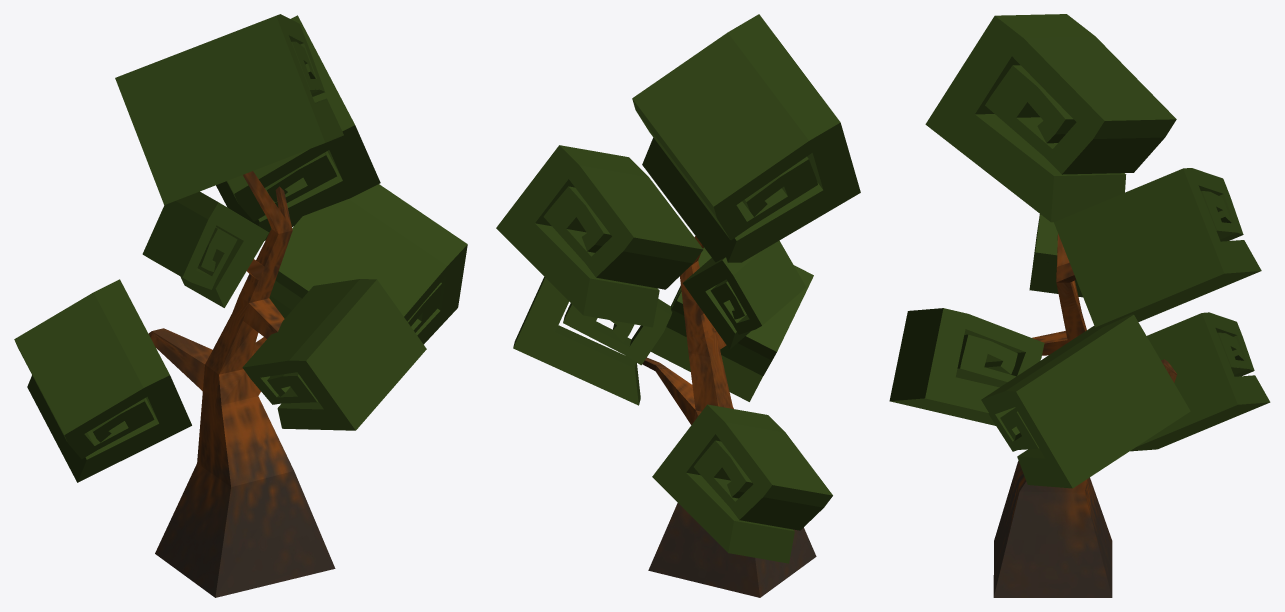
The model's file is tree_1.fbx.
3 views of the same model, side by side, from view 1: azimuth 30°, elevation 25°; view 2: azimuth 150°, elevation 25°; view 3: azimuth 270°, elevation 25° (orthographic). The views are drawn at different scales.
Parts seen in each view (by area): view 1: Group7, tree_2:Group2; view 2: Group7, tree_2:Group2; view 3: Group7, tree_2:Group2.
Part boxes in pixels (<box>): Group7: <box>14,14,467,482</box>; tree_2:Group2: <box>148,171,335,597</box>; Group7: <box>496,14,860,563</box>; tree_2:Group2: <box>642,236,816,597</box>; Group7: <box>889,14,1270,488</box>; tree_2:Group2: <box>993,233,1177,597</box>.
Size of the model in its own units: 6.88 by 10.15 by 6.32.
